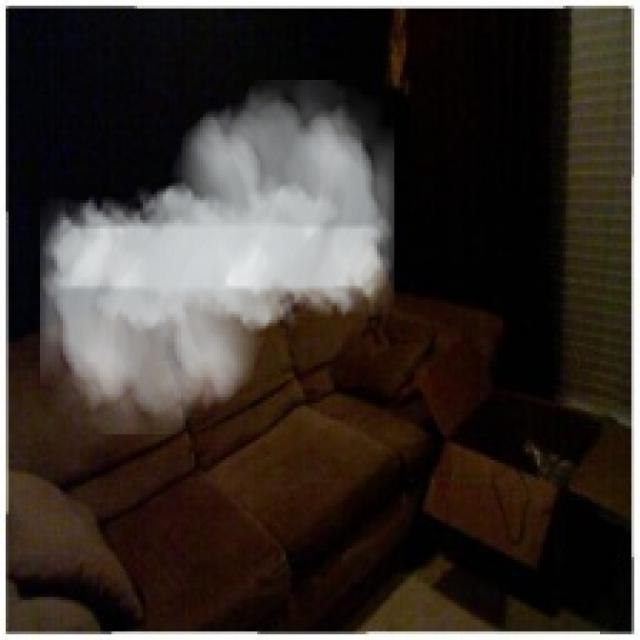Smoke: (39, 80, 394, 434)
